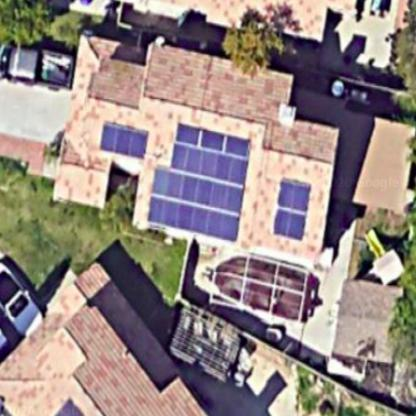car: (1, 35, 85, 93)
solar_panel: (146, 108, 249, 246), (262, 168, 313, 244), (99, 106, 149, 161)
